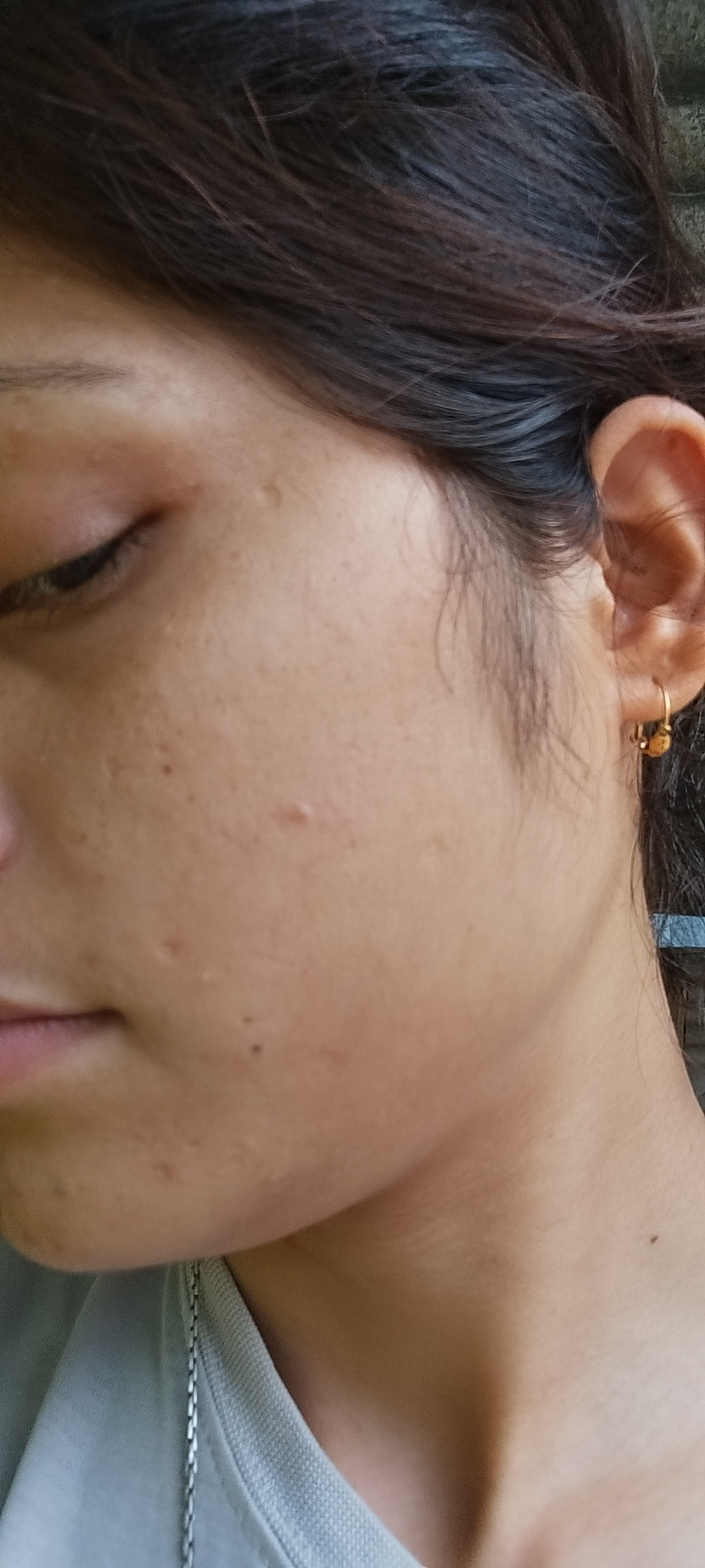papule: (286, 802, 313, 823)
pustule: (199, 970, 211, 983)
